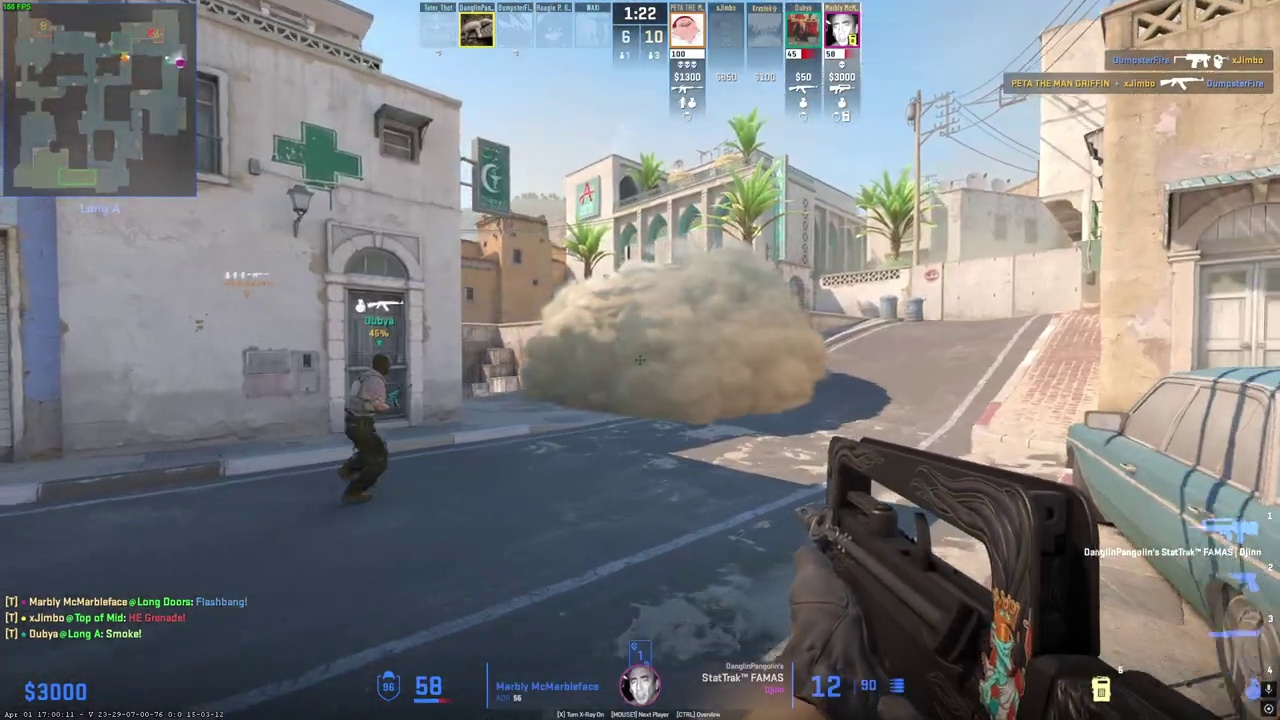Terrorist: (337, 352, 397, 505)
